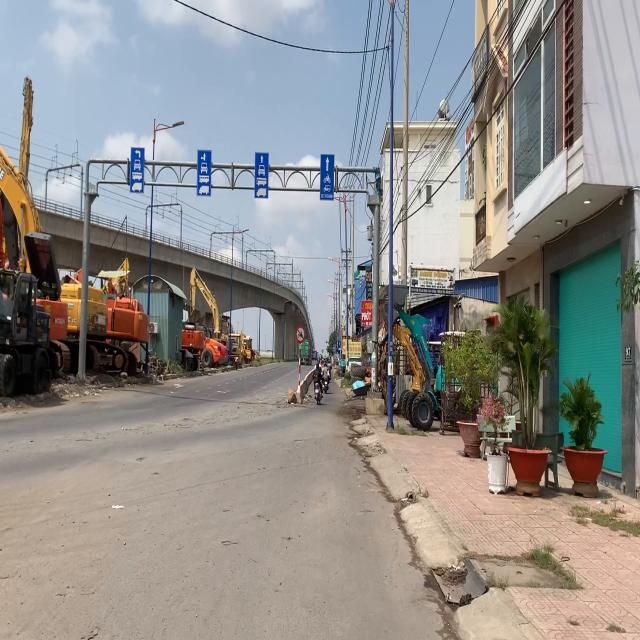Cam con lai: (295, 324, 306, 344)
